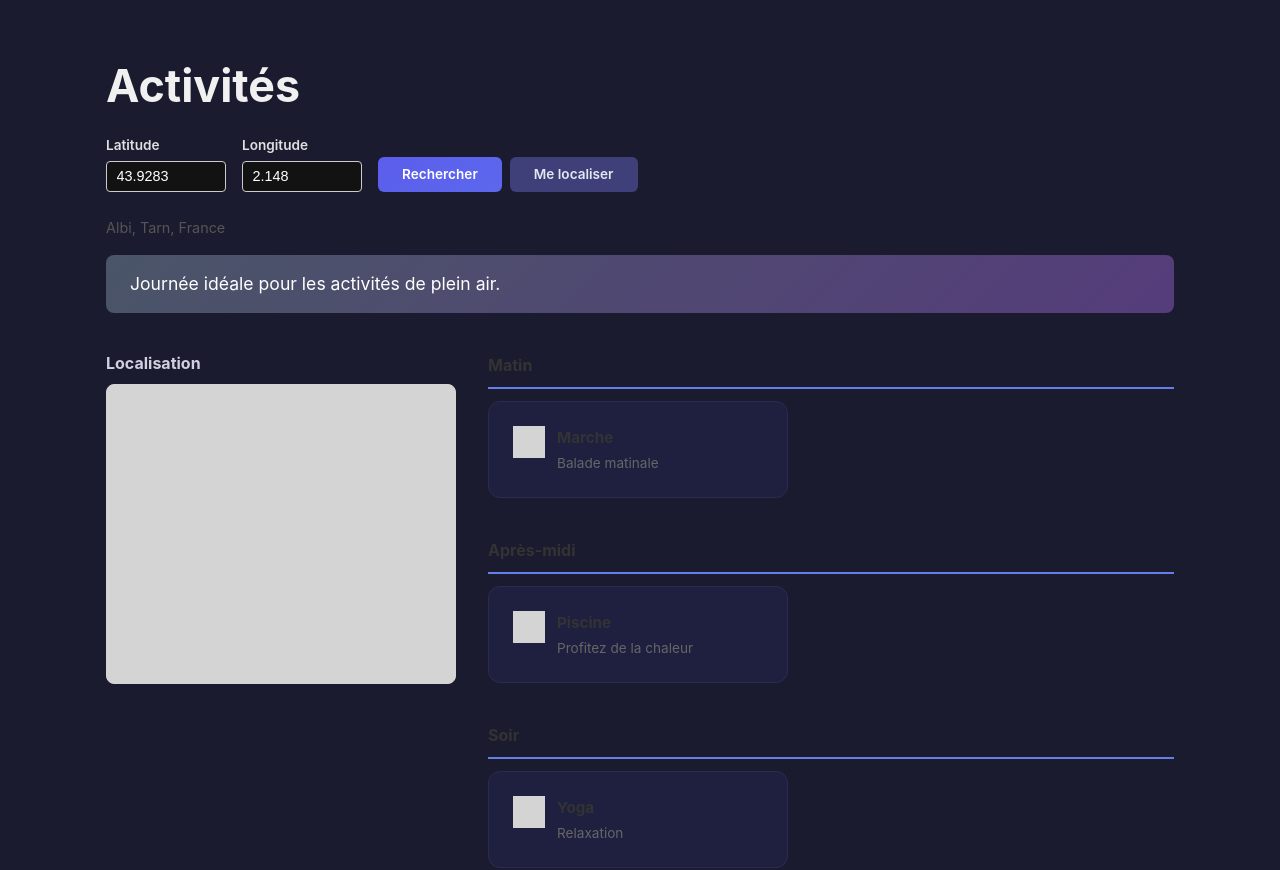
Test: ActivitiesPage › handles geolocation error
Click the button "Me localiser" at (574,174), box 510,157 -> 638,192
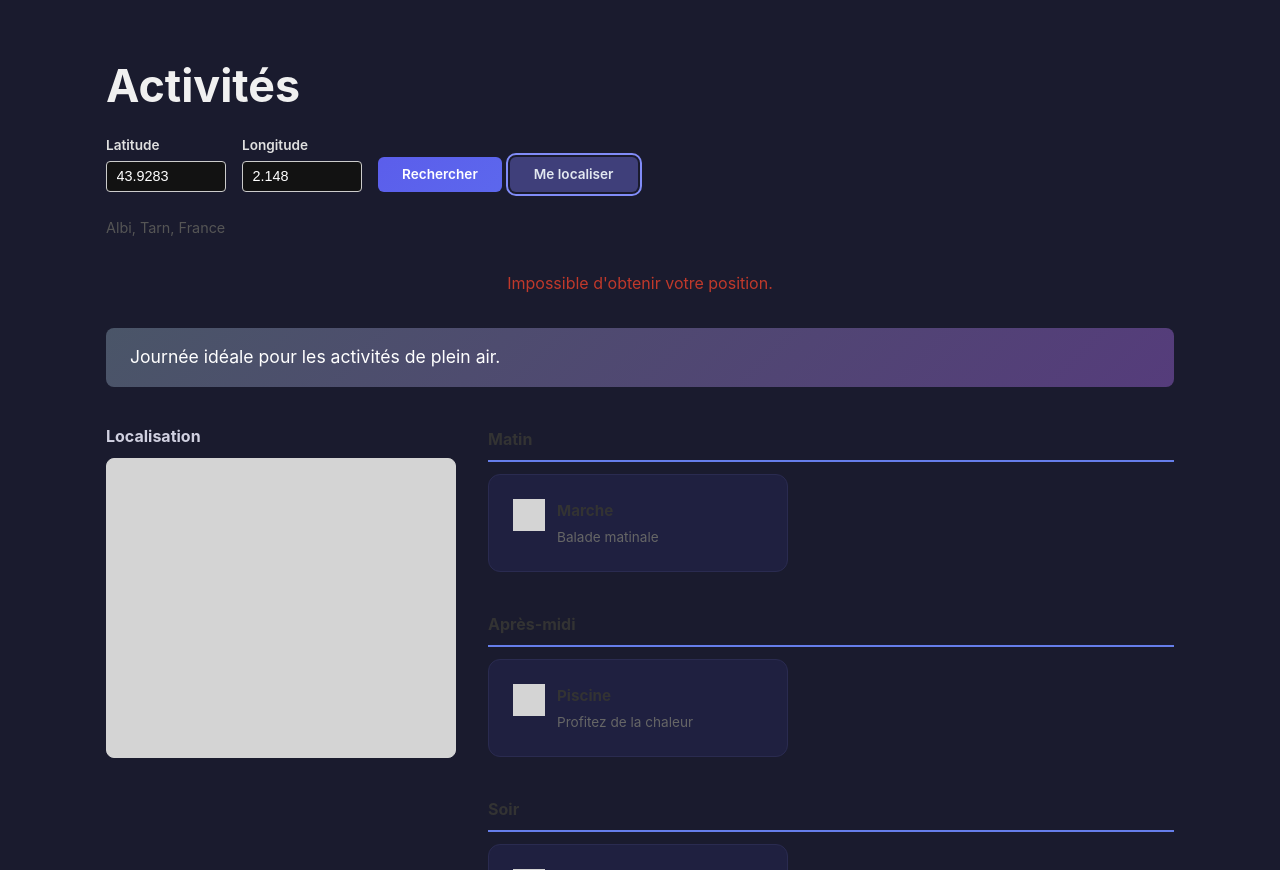
Expected: the text "Impossible d'obtenir votre position." is shown, 507,273 -> 773,293
